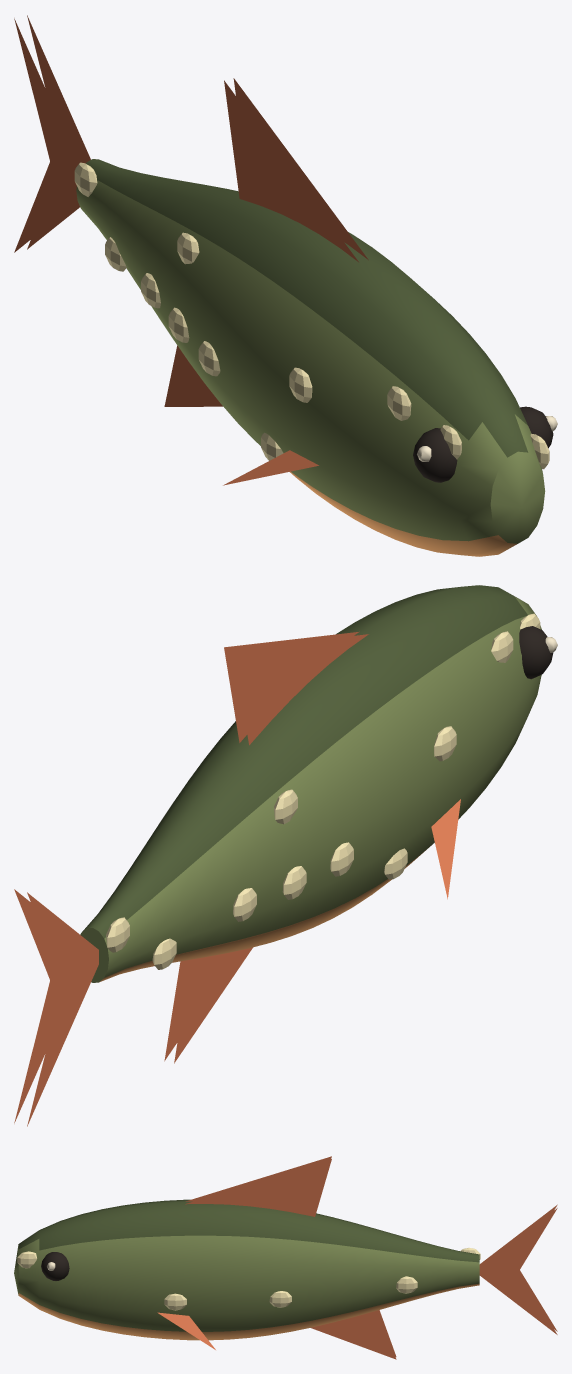
The model's file is Fish_BrookTrout.fbx.
3 views of the same model, one above another, from view 1: azimuth 30°, elevation 25°; view 2: azimuth 150°, elevation 25°; view 3: azimuth 270°, elevation 25° (orthographic). The views are drawn at different scales.
Parts seen in each view (by area): view 1: Fish_BrookTrout.001; view 2: Fish_BrookTrout.001; view 3: Fish_BrookTrout.001.
Boxes of the visible parts, x1=… form: Fish_BrookTrout.001: x1=14, y1=15, x2=557, y2=556; Fish_BrookTrout.001: x1=14, y1=585, x2=557, y2=1126; Fish_BrookTrout.001: x1=14, y1=1156, x2=557, y2=1359.
Bounding box in the file's own units: 0.1408 × 0.2212 × 0.5427.
